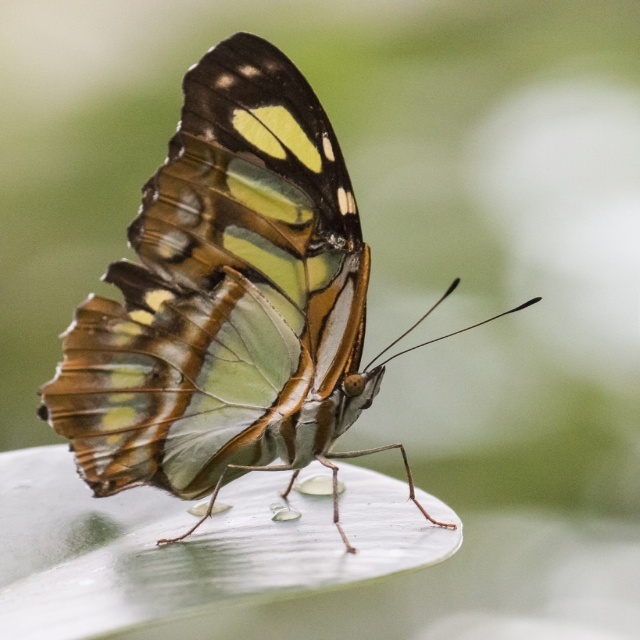Butterfly: (51, 31, 528, 582)
